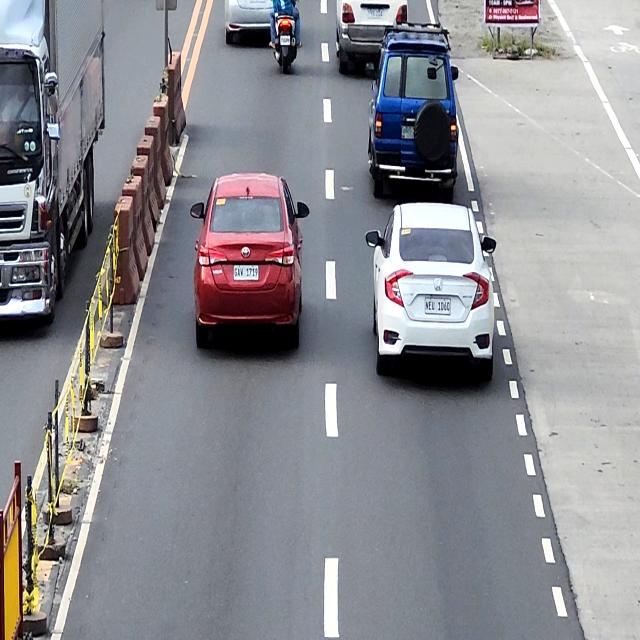Car: (365, 201, 497, 379), (190, 172, 309, 348), (367, 26, 459, 197), (335, 0, 409, 76)
License-Plate: (232, 262, 260, 281), (424, 298, 450, 314), (401, 124, 416, 140), (365, 8, 384, 20), (280, 34, 291, 46)
Motorcycle: (269, 4, 301, 74)
Truck: (0, 0, 106, 325)
